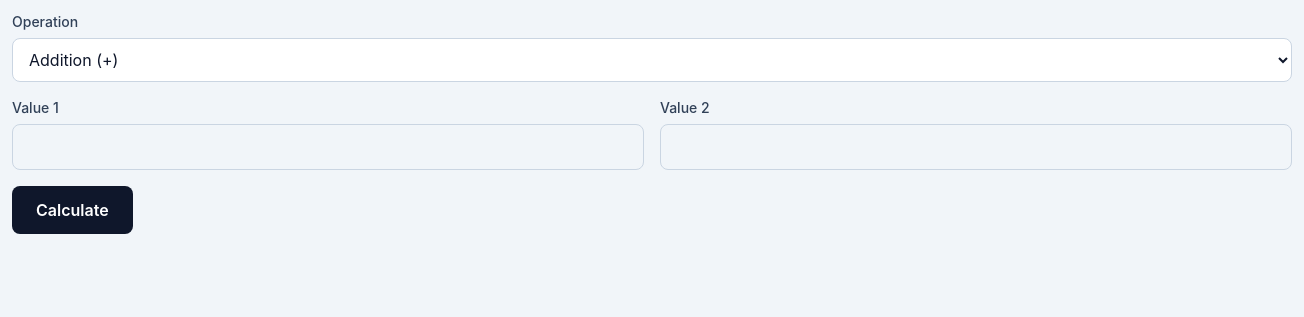
calculation › displays the error returned by the backend
Select "Division (÷)" in the dropdown labelled "Operation": (652, 60) top-left (12, 38), bottom-right (1292, 82)
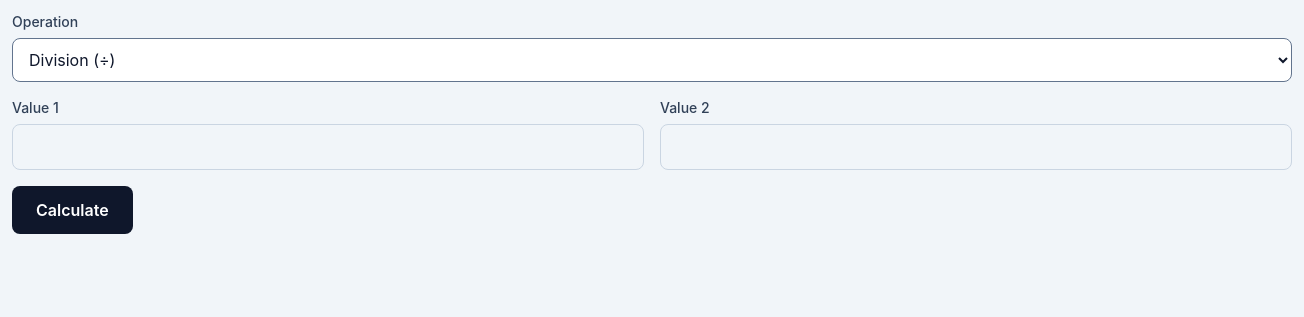
In the field labelled "Value 1": (328, 147) top-left (12, 124), bottom-right (644, 170), type "1"
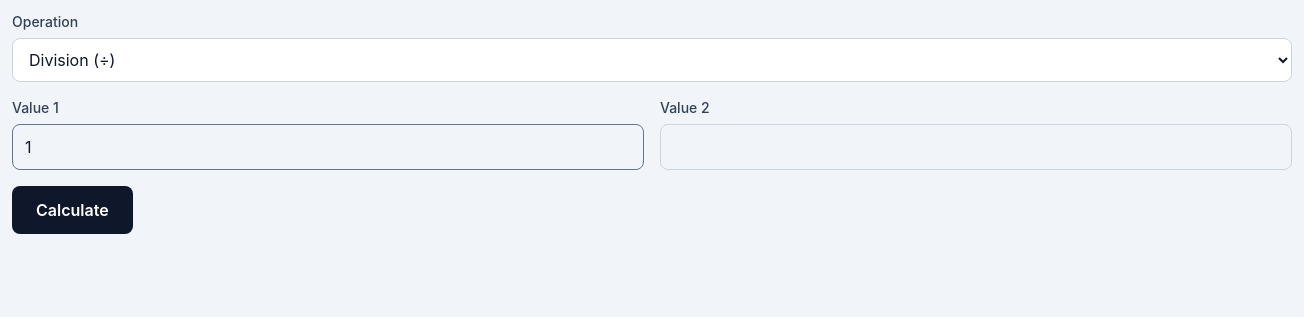
In the field labelled "Value 2": (976, 147) top-left (660, 124), bottom-right (1292, 170), type "0"
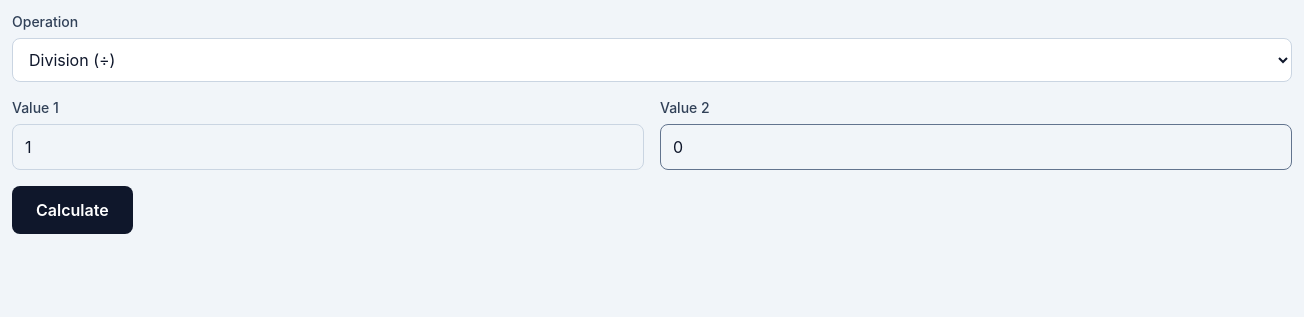
Click the button "Calculate": (72, 210) top-left (12, 186), bottom-right (133, 234)
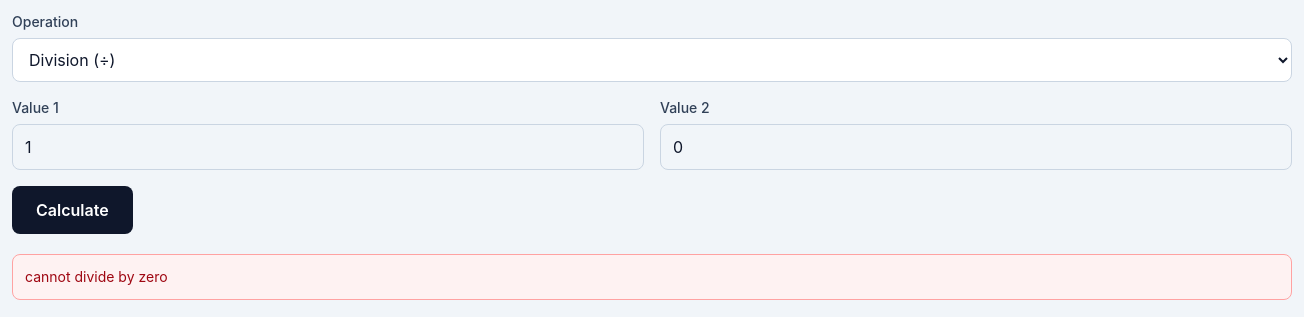
Result: the message reads "cannot divide by zero" at top-left (25, 268), bottom-right (168, 285)
